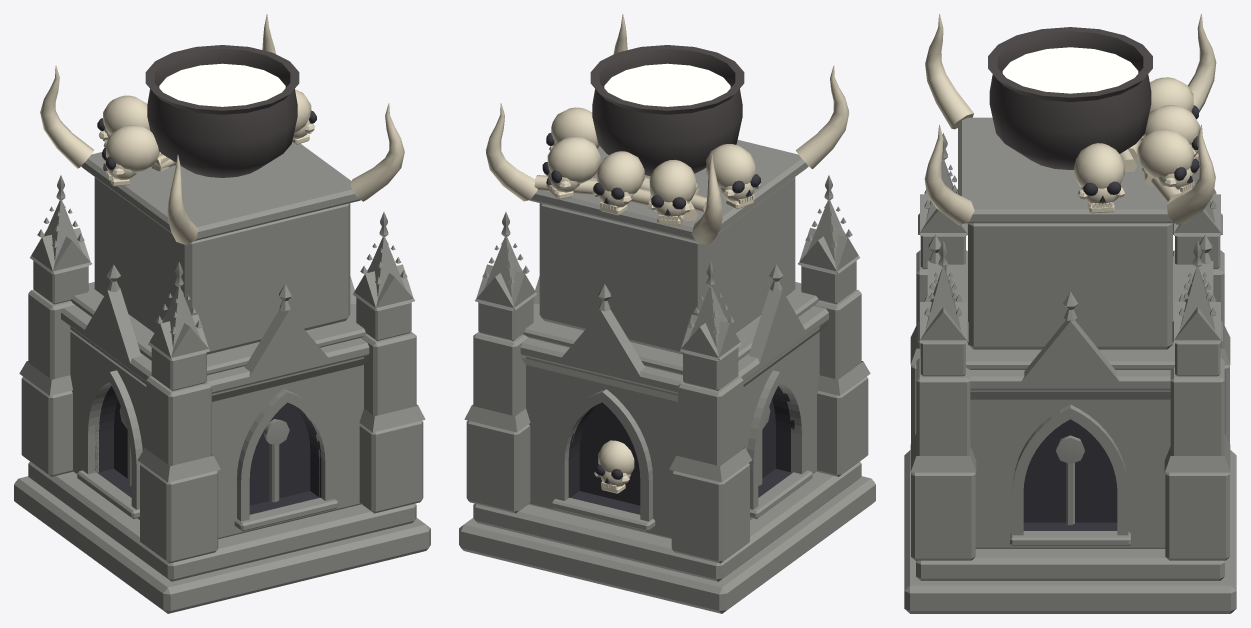
The model's file is tower_altar_2.glb.
3 renders of one model, left to right at view 1: azimuth 30°, elevation 25°; view 2: azimuth 150°, elevation 25°; view 3: azimuth 270°, elevation 25°, orthographic. The views are drawn at different scales.
Parts seen in each view (by area): view 1: tower; view 2: tower; view 3: tower.
Boxes of the visible parts, x1,y1,x2,y2 form: tower: (14,14,430,613); tower: (459,14,875,613); tower: (904,14,1236,613).
Bounding box in the file's own units: 1.7 × 2.73 × 1.7.
